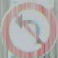Don't turn left: (3, 3, 53, 57)
